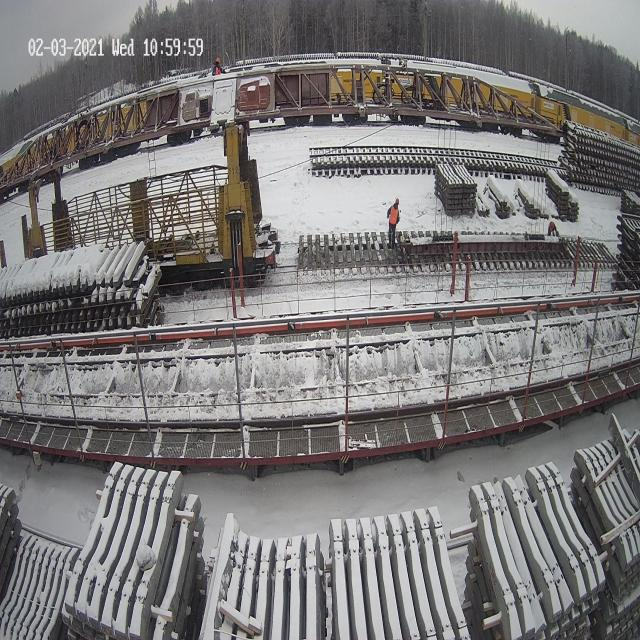Person: (387, 197, 400, 249), (208, 54, 224, 80), (544, 214, 558, 238)
